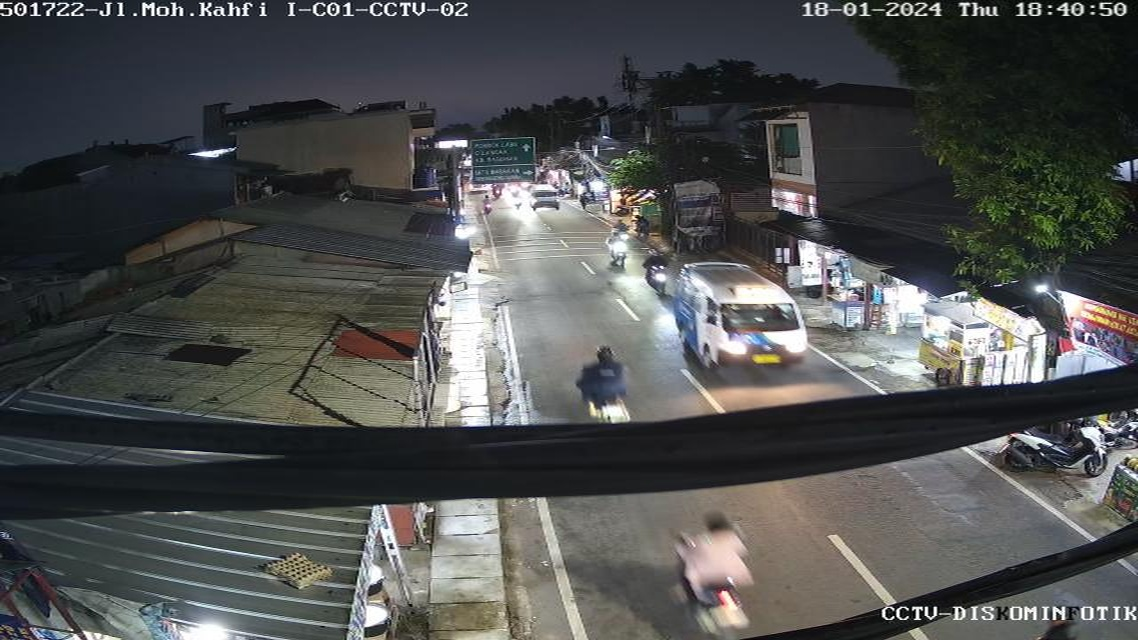Gerobak: (918, 300, 985, 386), (821, 272, 864, 330)
